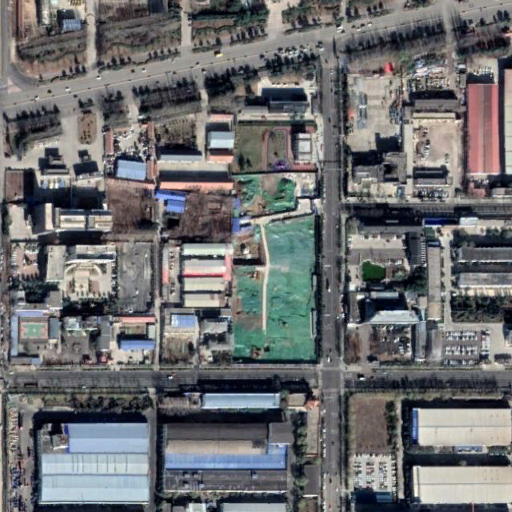cw: (214, 170, 323, 370)
